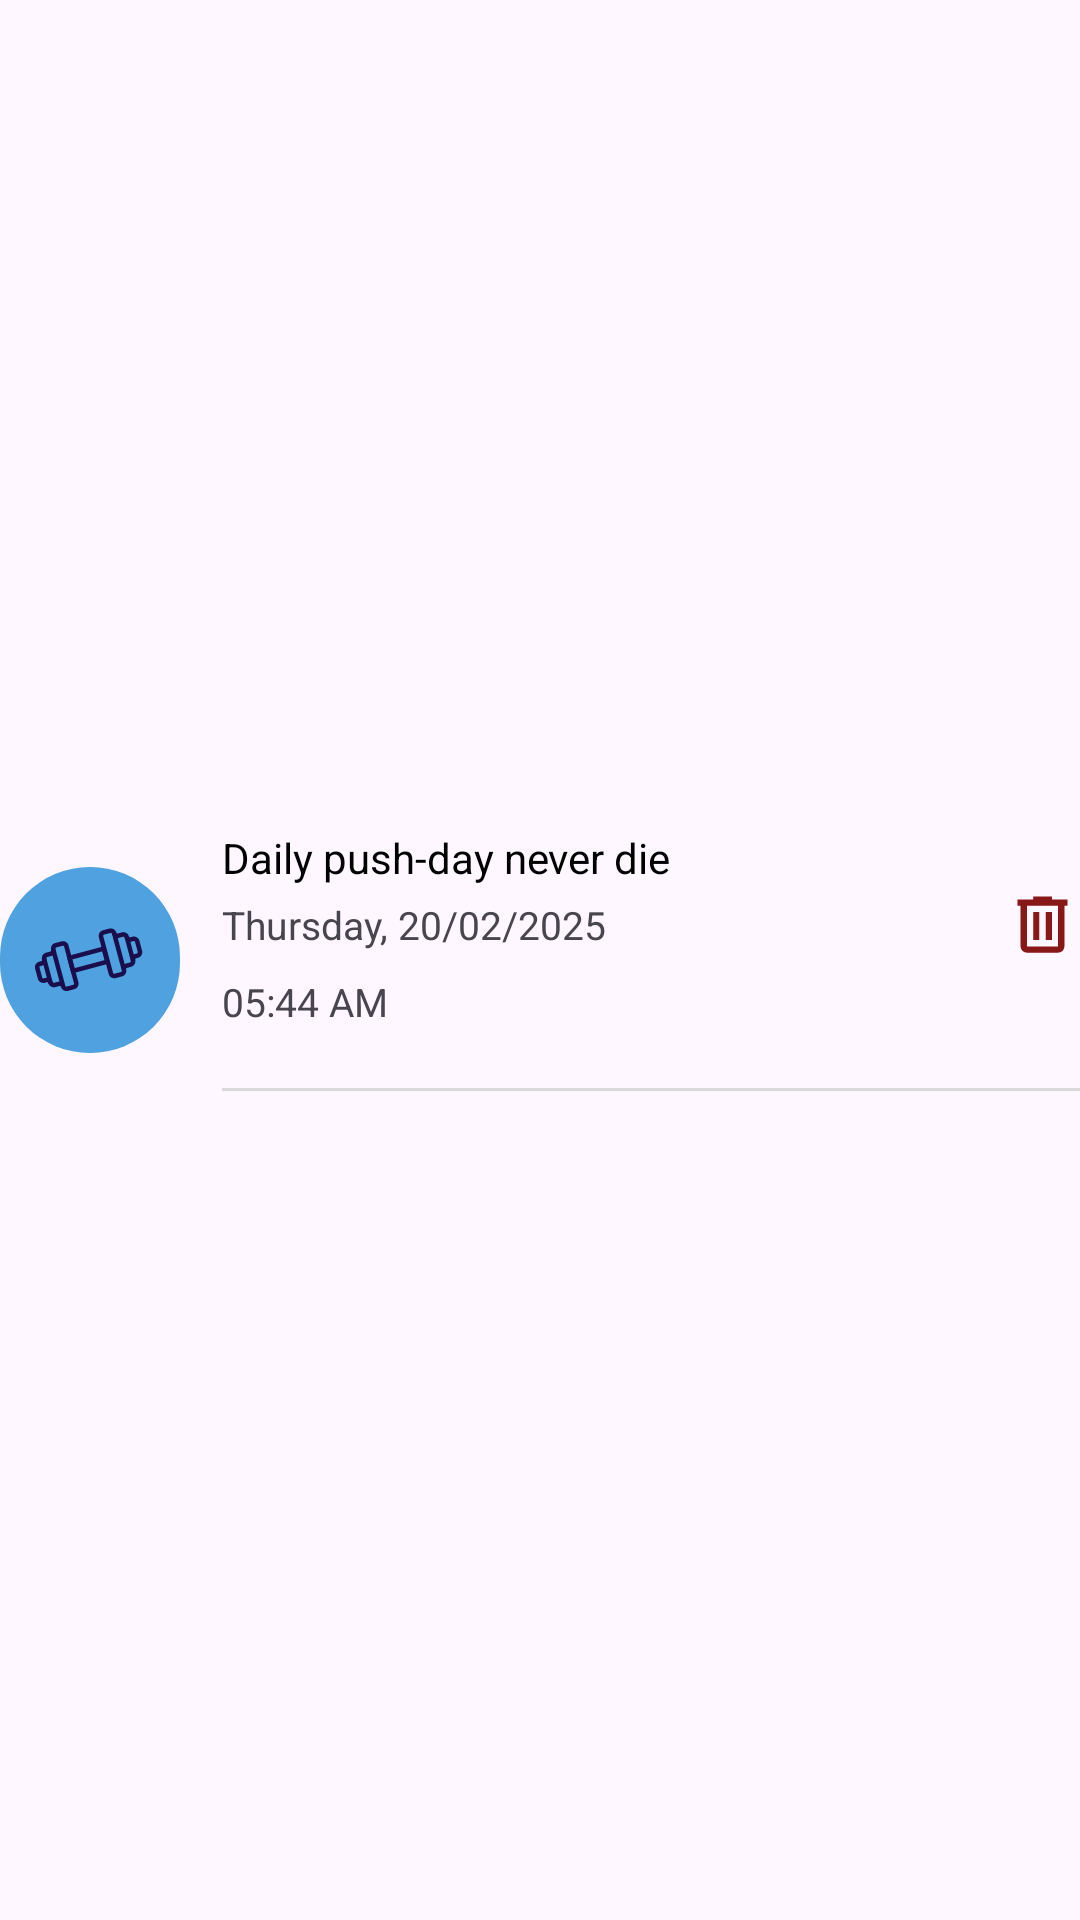

Locate icon controls on the screen. Image size 1080px×1920px, boxes as bbox=(x1, y1, x2, y2).
delete: bbox=(1017, 896, 1068, 953)
dumble: bbox=(0, 867, 180, 1053)
